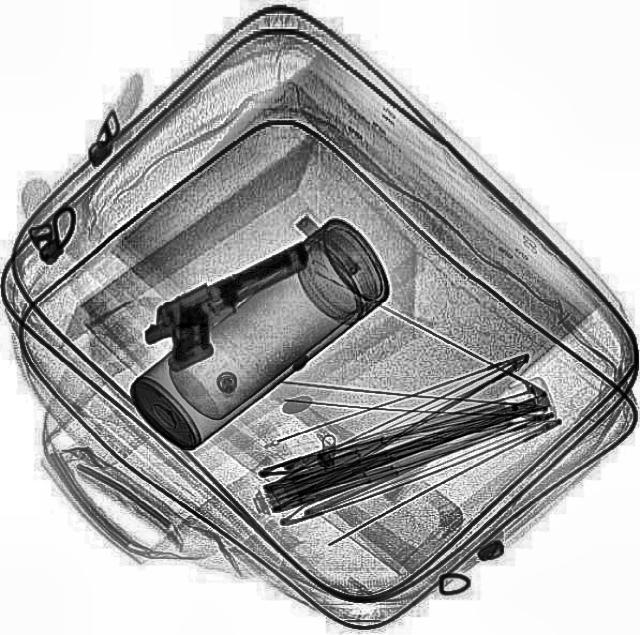Gun: (130, 238, 334, 376)
